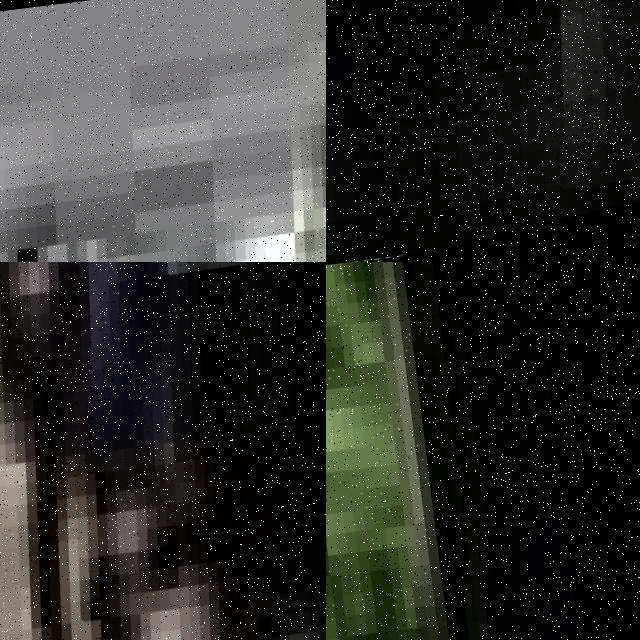drone: (0, 262, 326, 640), (0, 0, 326, 262), (326, 0, 640, 262)
